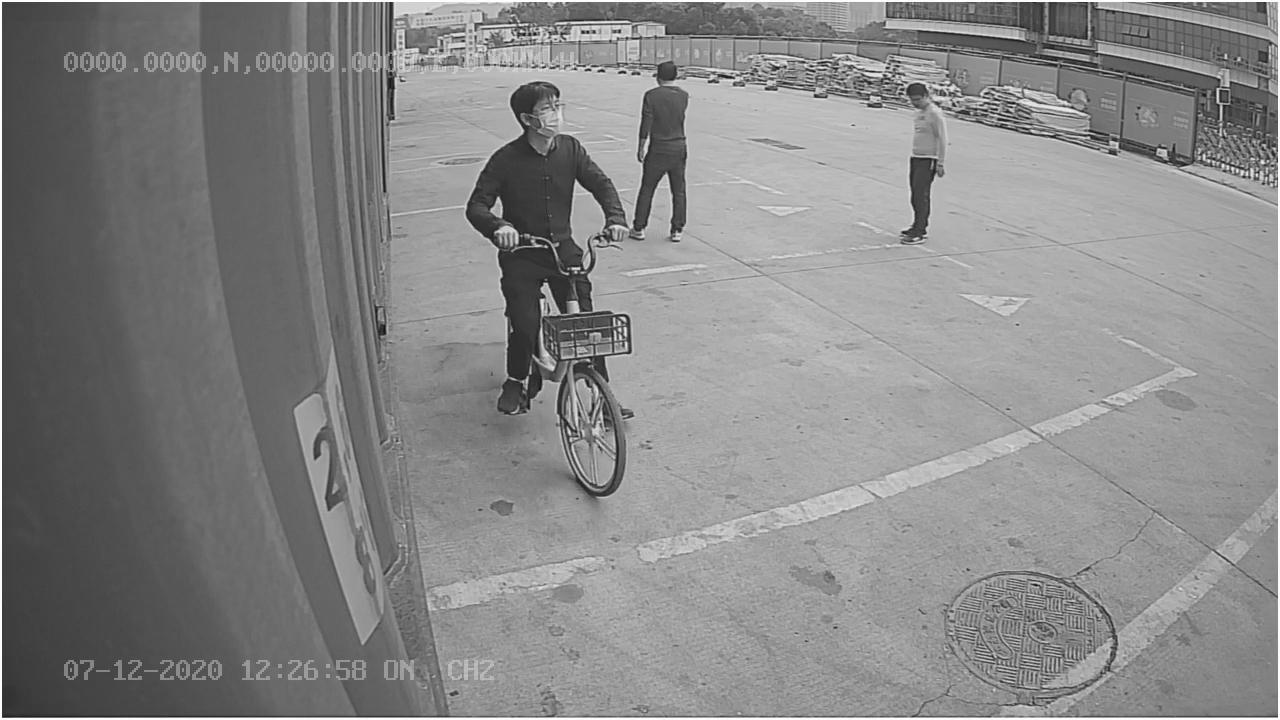person: (623, 56, 694, 245)
